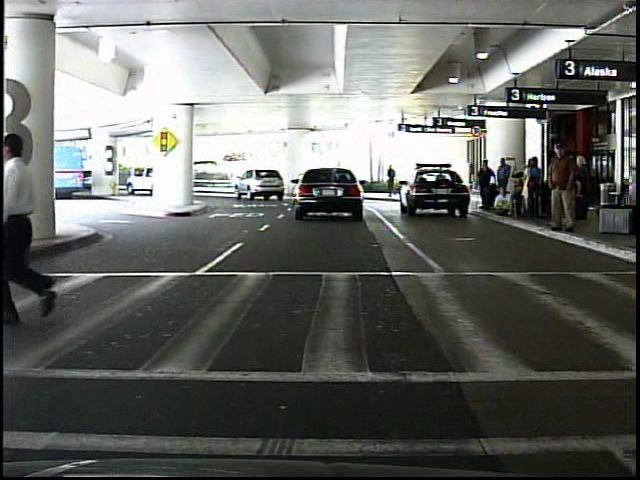person: (5, 123, 91, 325), (544, 141, 582, 237), (476, 159, 496, 213), (387, 164, 401, 199), (126, 163, 138, 189)
